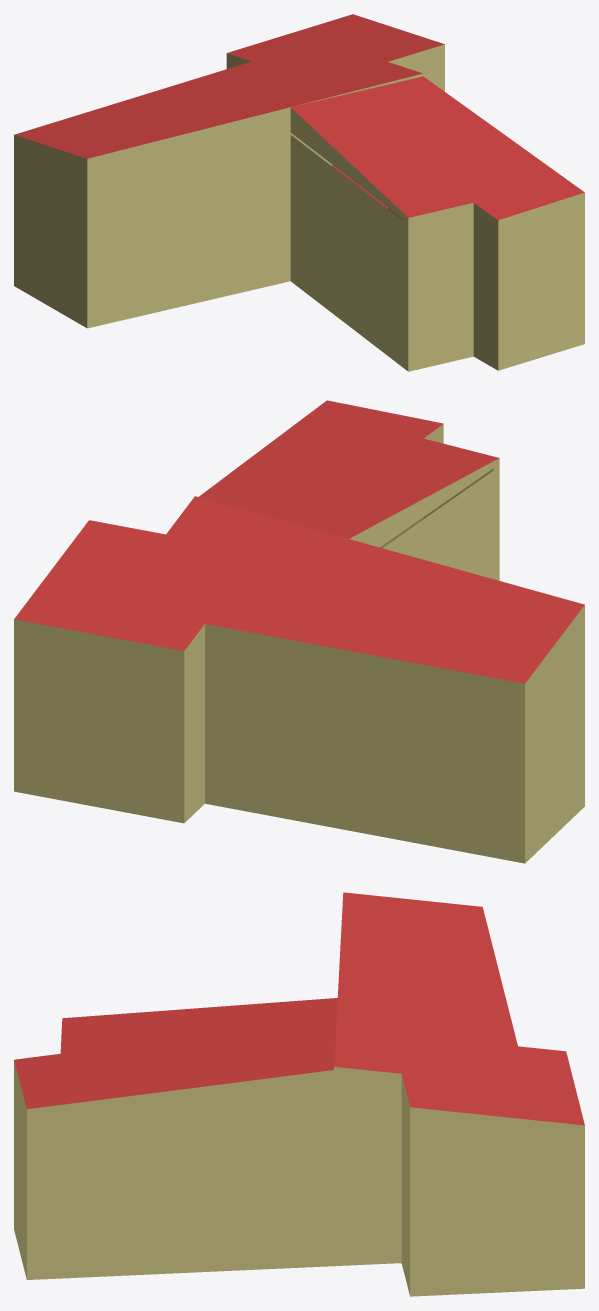
3 views of the same model, one above another, from view 1: azimuth 30°, elevation 25°; view 2: azimuth 150°, elevation 25°; view 3: azimuth 270°, elevation 25° (orthographic). The views are drawn at different scales.
Size of the model in its own units: 19.58 by 21.54 by 8.3.
